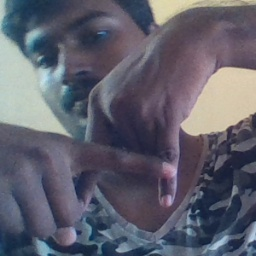H: (59, 81, 185, 215)
